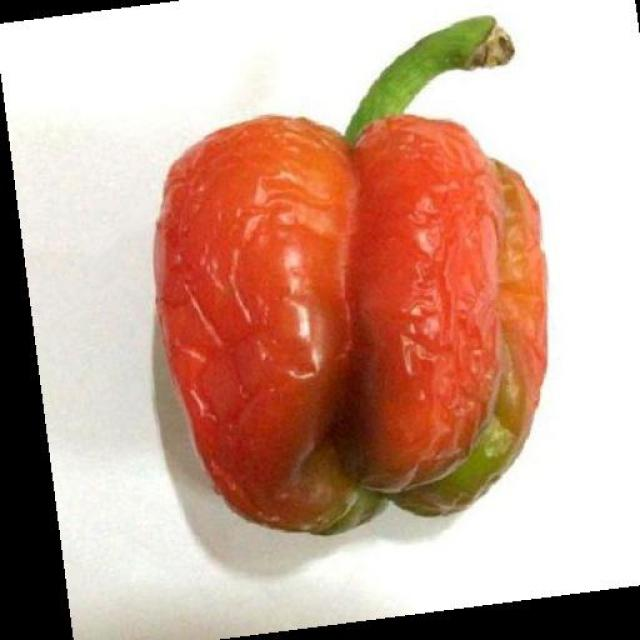Stale_Capsicum: (116, 50, 560, 559)
